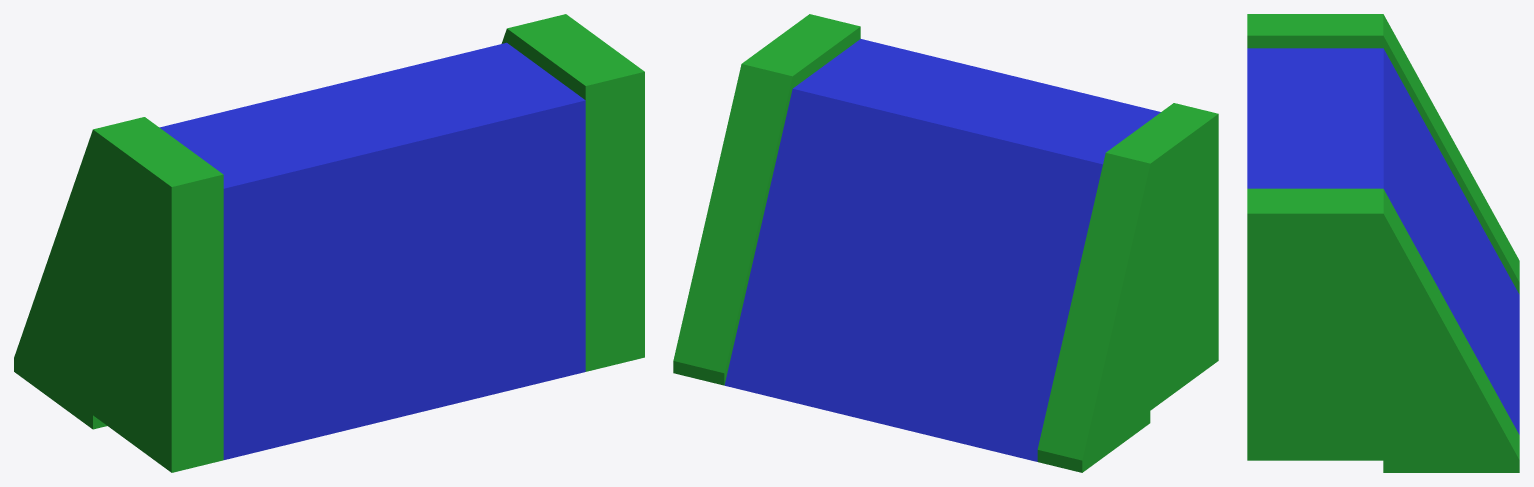
The model's file is cliff-left-river_edge.glb.
3 renders of one model, left to right at view 1: azimuth 30°, elevation 25°; view 2: azimuth 150°, elevation 25°; view 3: azimuth 270°, elevation 25°, orthographic. The views are drawn at different scales.
Visible parts, largest first — view 1: cliff-left-river_edge; view 2: cliff-left-river_edge; view 3: cliff-left-river_edge.
Part boxes in pixels (<box>): cliff-left-river_edge: <box>14,14,644,472</box>; cliff-left-river_edge: <box>673,14,1218,472</box>; cliff-left-river_edge: <box>1247,14,1519,472</box>.
Bounding box in the file's own units: 0.866 × 0.525 × 0.5.
